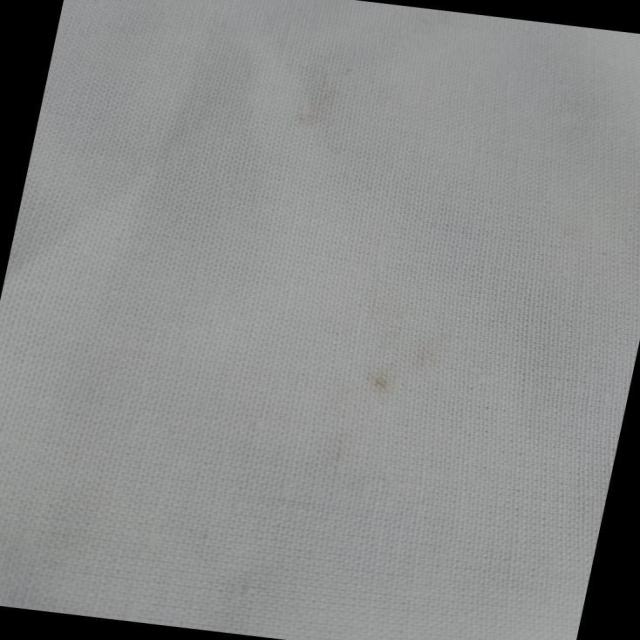stain: (344, 345, 416, 409)
